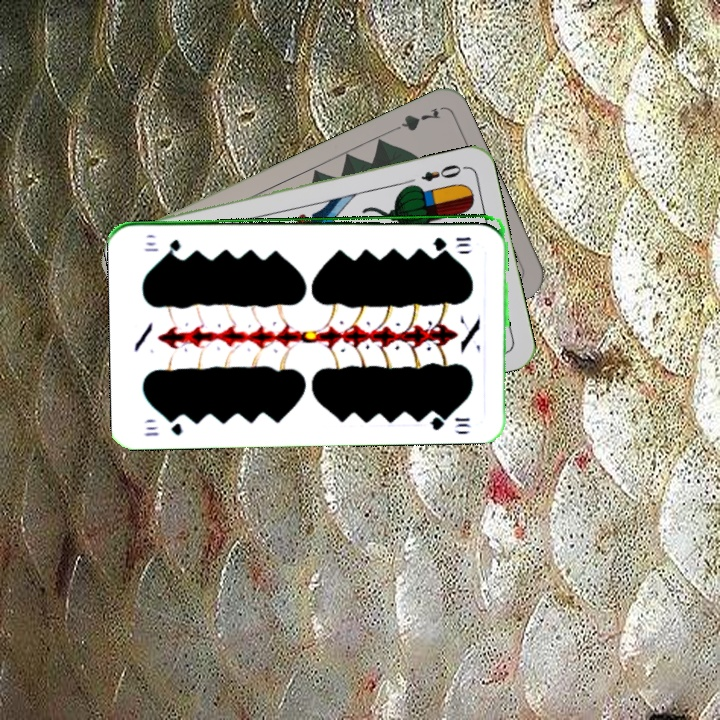EO: (417, 160, 469, 184)
G10: (141, 413, 185, 439), (429, 233, 474, 250)
G7: (386, 103, 443, 135)
